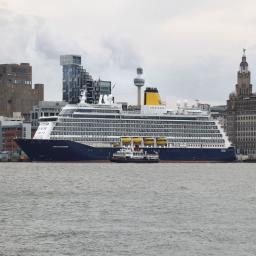cruises: (14, 83, 240, 167)
